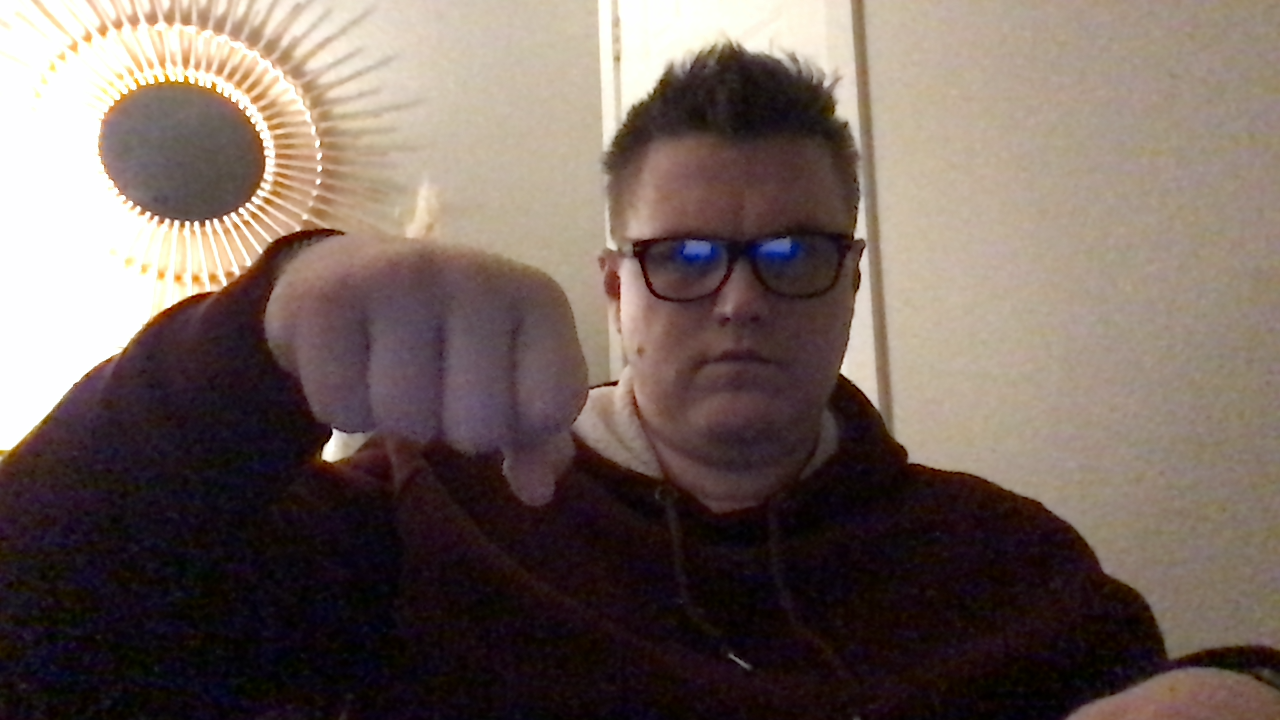yes: (250, 222, 608, 506)
